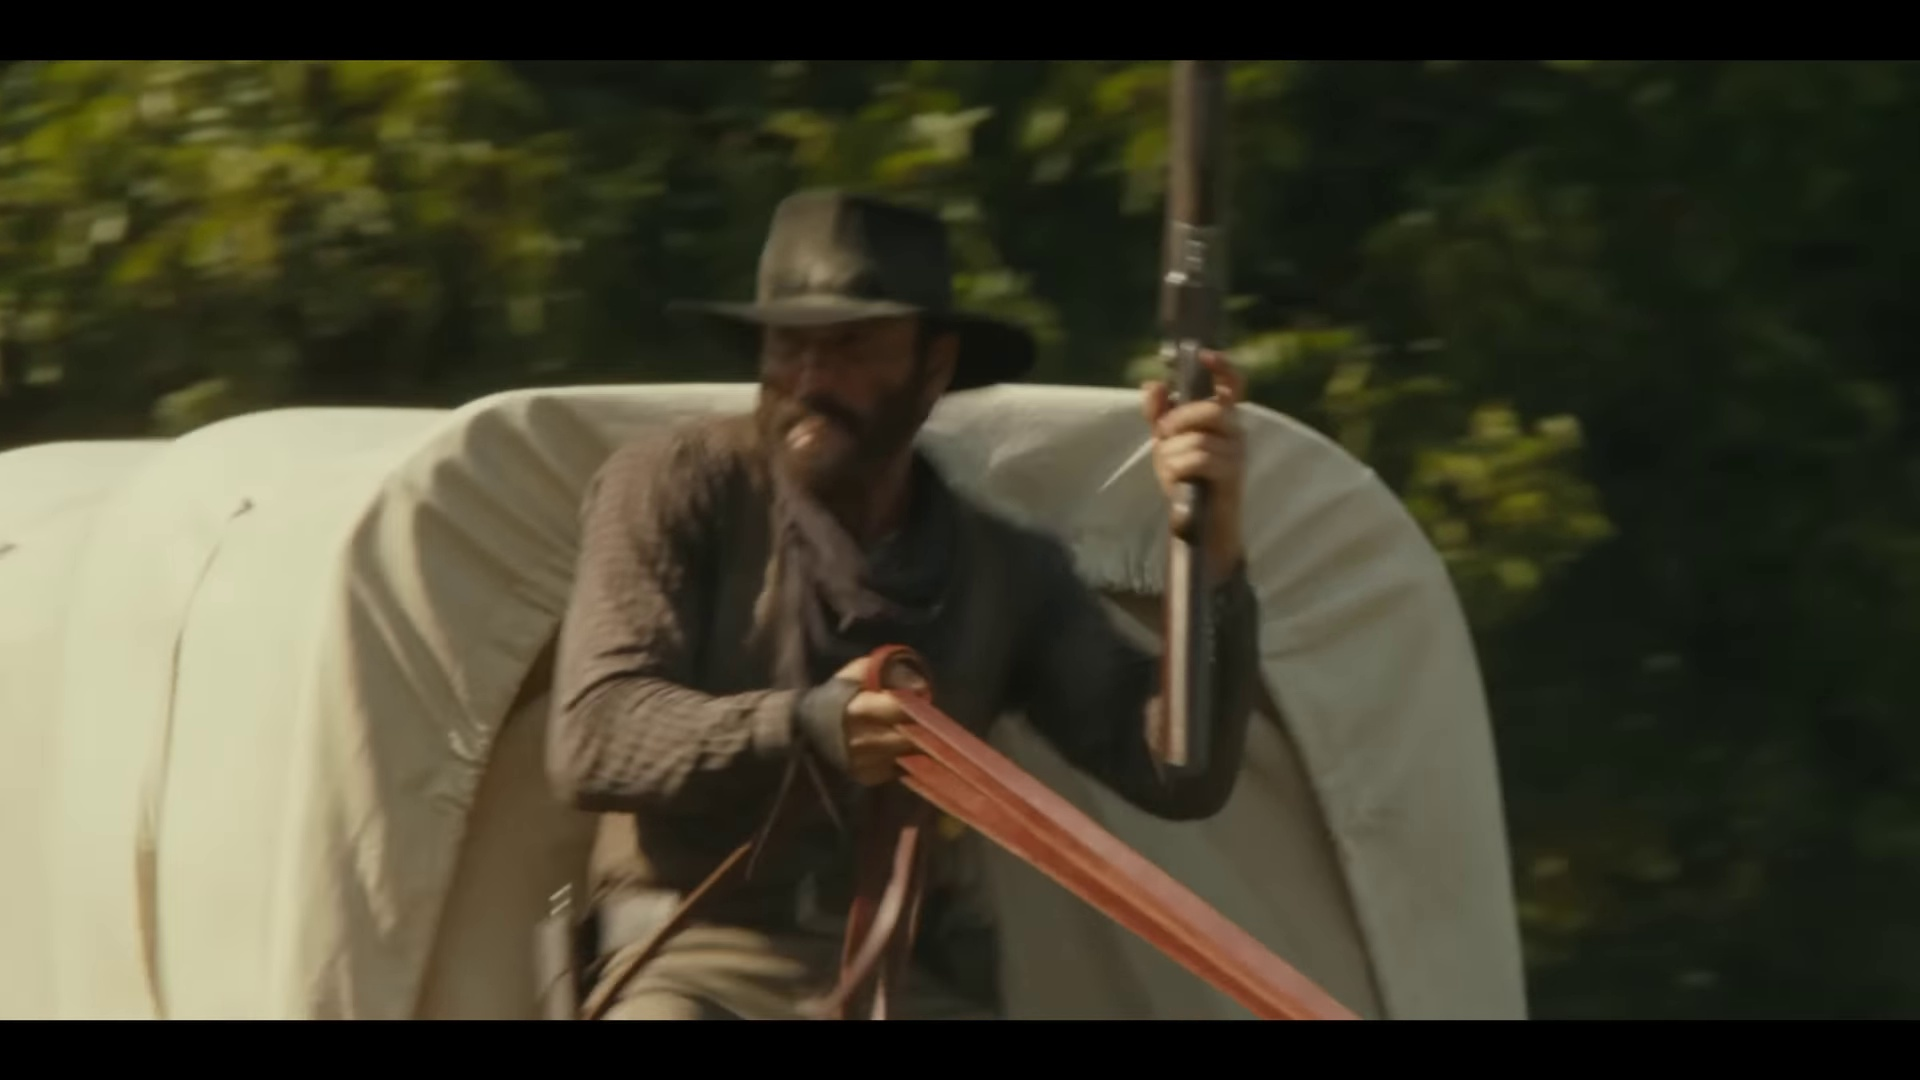gun: (1089, 51, 1265, 795)
p_w_gun: (527, 32, 1273, 1022)
